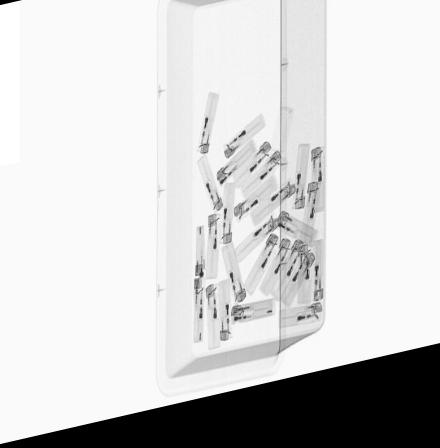Lighter: (260, 246, 319, 321), (231, 151, 283, 210), (232, 183, 280, 237), (251, 187, 298, 240), (243, 243, 280, 309), (222, 122, 267, 170), (234, 226, 275, 276), (215, 150, 257, 197), (276, 221, 320, 264), (221, 247, 247, 318), (196, 162, 223, 225), (197, 100, 220, 163), (292, 156, 312, 224), (299, 196, 320, 258), (278, 316, 323, 342), (205, 222, 222, 289), (230, 310, 275, 335), (218, 286, 235, 351), (219, 193, 236, 254), (311, 160, 326, 228), (298, 256, 313, 320), (206, 292, 220, 360), (192, 285, 206, 351), (312, 252, 325, 317), (195, 233, 206, 286)
